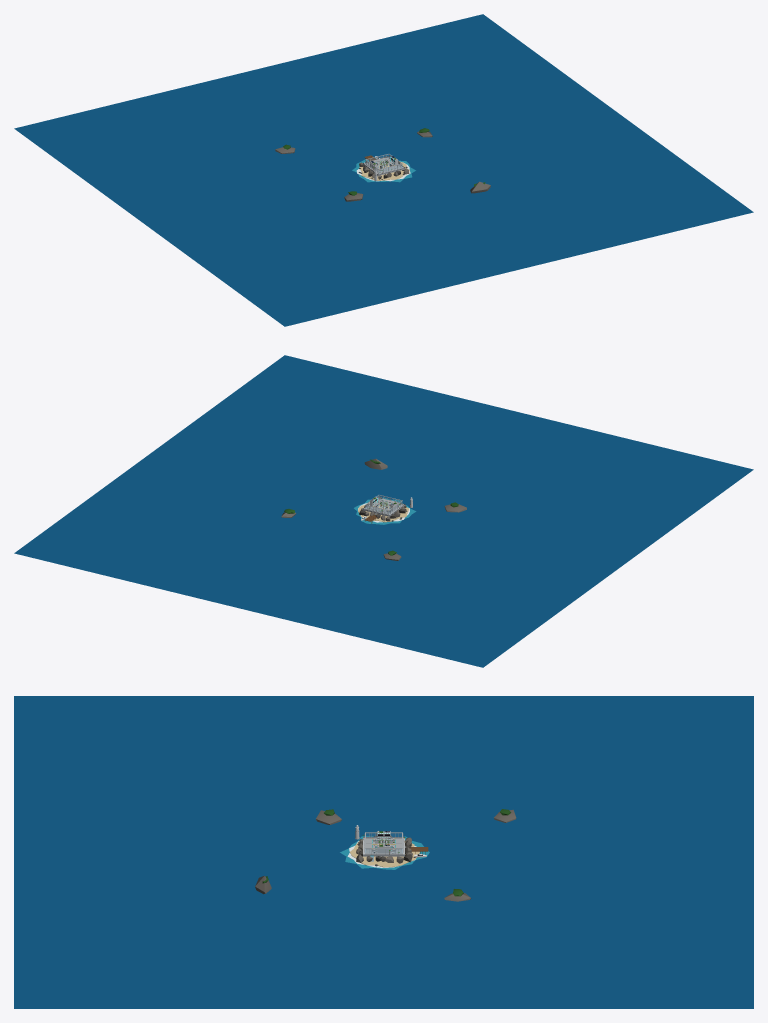
Rendered from arena_coastal_low.glb.
3 renders of one model, top to bottom at view 1: azimuth 30°, elevation 25°; view 2: azimuth 150°, elevation 25°; view 3: azimuth 270°, elevation 25°, orthographic. The views are drawn at different scales.
Visible parts, largest first — view 1: Backdrop_Island; view 2: Backdrop_Island; view 3: Backdrop_Island.
Boxes of the visible parts, bbox=[...] form: Backdrop_Island: bbox=[14, 14, 753, 326]; Backdrop_Island: bbox=[14, 355, 753, 667]; Backdrop_Island: bbox=[14, 696, 753, 1008].
Bounding box in the file's own units: 1000 × 46.51 × 1000.
